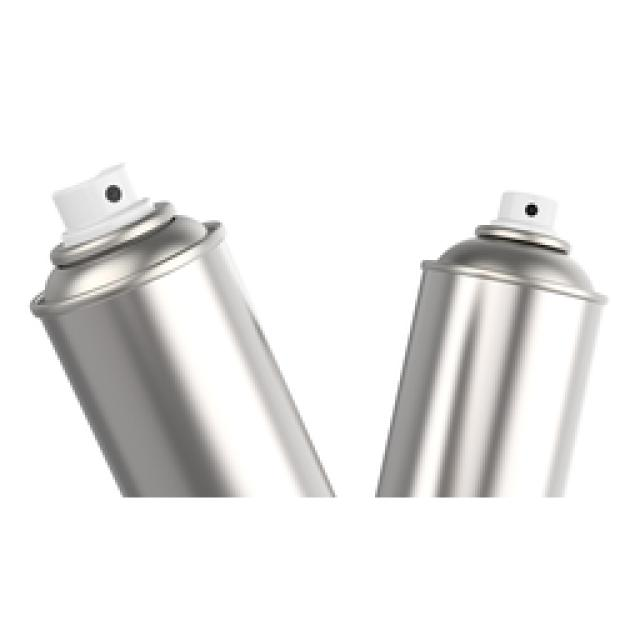alumunium: (30, 165, 332, 495), (378, 192, 605, 495)
